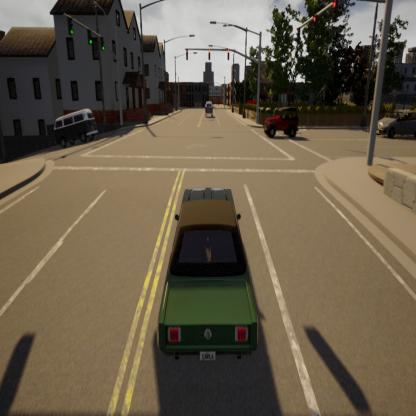Cars: (149, 176, 274, 378), (37, 101, 113, 164), (258, 93, 312, 147), (372, 89, 416, 154), (202, 92, 222, 138)
